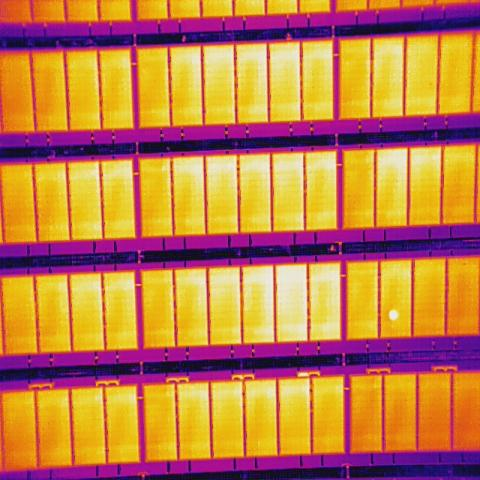fault: (387, 307, 399, 322)
